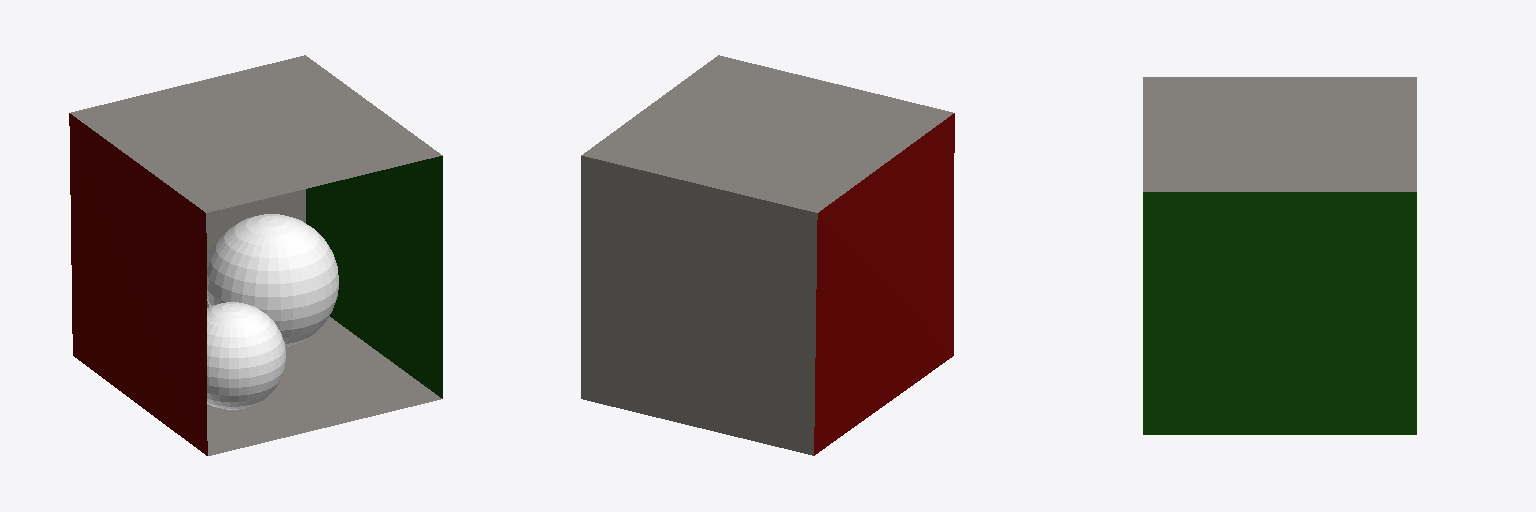
Rendered from cornellbox2.obj.
3 renders of one model, left to right at view 1: azimuth 30°, elevation 25°; view 2: azimuth 150°, elevation 25°; view 3: azimuth 270°, elevation 25°, orthographic.
Visible parts, largest first — view 1: leftWall, ceiling, rightWall, floor, bigSphere, smallSphere, backWall; view 2: backWall, leftWall, ceiling; view 3: rightWall, ceiling.
Boxes of the visible parts, x1=… form: leftWall: x1=69, y1=113, x2=207, y2=455; ceiling: x1=70, y1=55, x2=442, y2=212; rightWall: x1=306, y1=156, x2=442, y2=398; floor: x1=207, y1=316, x2=441, y2=455; bigSphere: x1=207, y1=214, x2=338, y2=346; smallSphere: x1=207, y1=302, x2=285, y2=409; backWall: x1=206, y1=189, x2=305, y2=307; backWall: x1=581, y1=156, x2=817, y2=455; leftWall: x1=814, y1=113, x2=954, y2=455; ceiling: x1=581, y1=55, x2=953, y2=212; rightWall: x1=1143, y1=192, x2=1416, y2=434; ceiling: x1=1143, y1=77, x2=1416, y2=191.
Size of the model in its own units: 2.02 by 1.99 by 2.03.